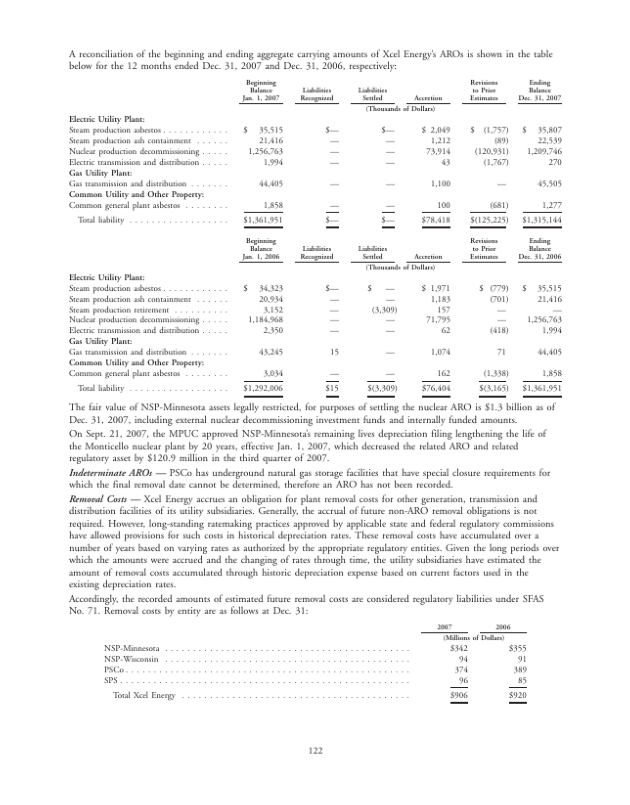table: (418, 622, 530, 706), (239, 237, 286, 403), (462, 238, 509, 403), (403, 252, 452, 403), (349, 86, 399, 233), (297, 245, 344, 399), (520, 237, 565, 397), (465, 79, 510, 234), (238, 79, 284, 227), (297, 84, 341, 234), (353, 246, 396, 399), (520, 79, 564, 228), (405, 94, 451, 234)
